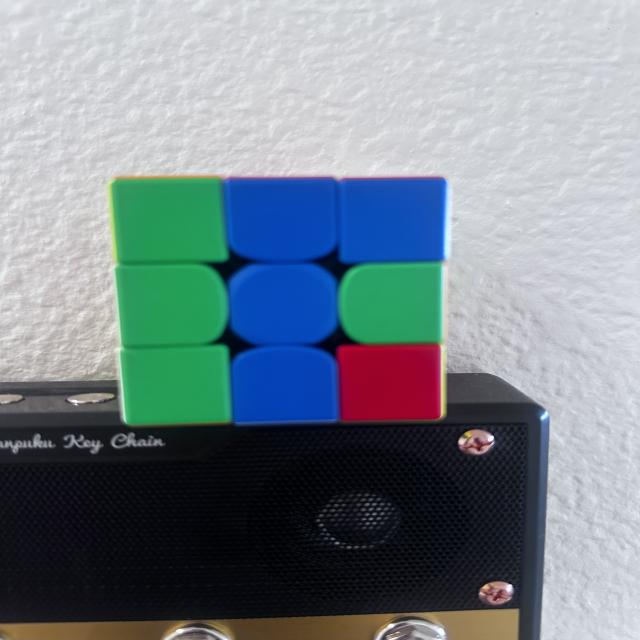sticker: (108, 177, 232, 268), (226, 177, 342, 265), (338, 178, 450, 268), (114, 265, 231, 349), (117, 345, 235, 428), (336, 342, 447, 426), (230, 265, 342, 348), (338, 263, 444, 347), (232, 346, 342, 425)
